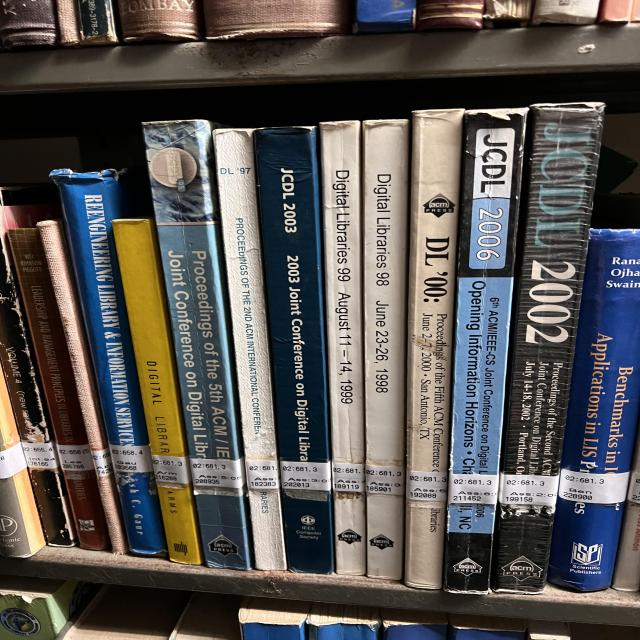Book: (493, 102, 605, 594), (143, 120, 252, 569), (52, 169, 167, 555), (443, 109, 527, 594), (255, 128, 335, 574), (547, 229, 640, 591), (213, 129, 287, 570), (112, 219, 203, 565), (37, 220, 128, 554), (403, 109, 465, 589), (320, 121, 367, 575), (0, 270, 77, 545), (363, 120, 408, 580)
Label: (558, 469, 630, 504), (498, 474, 558, 506), (190, 458, 245, 489), (280, 461, 332, 491), (448, 474, 498, 504), (407, 470, 448, 501), (365, 465, 405, 495), (110, 445, 153, 472), (152, 455, 192, 484), (245, 460, 280, 489), (332, 462, 365, 492), (22, 442, 58, 469), (57, 444, 93, 471), (92, 448, 113, 478)
